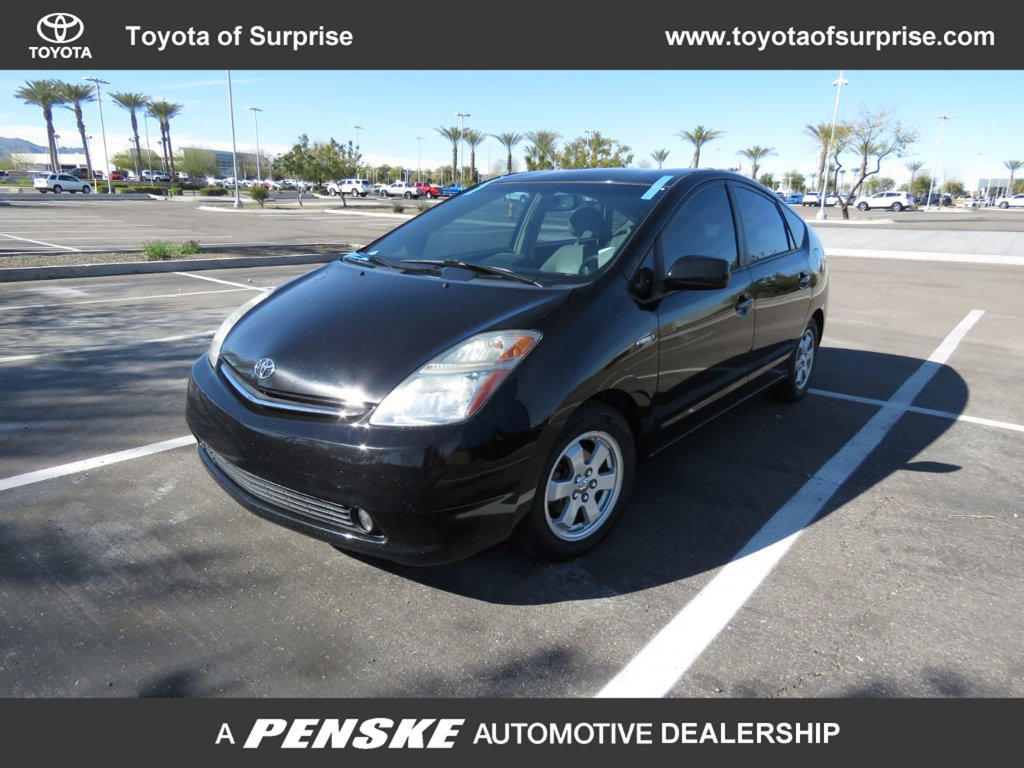Toyota Prius: (184, 165, 831, 573)
